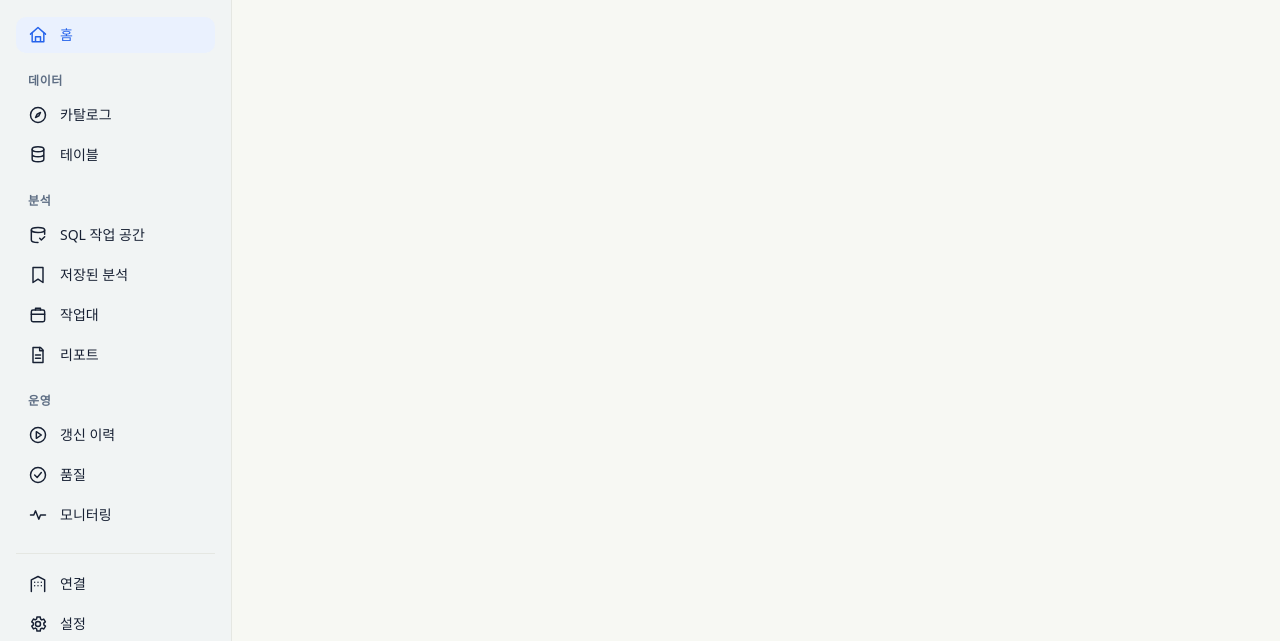
Test: command palette (#533) › opens a source in the Catalog with the keyboard alone
Press k
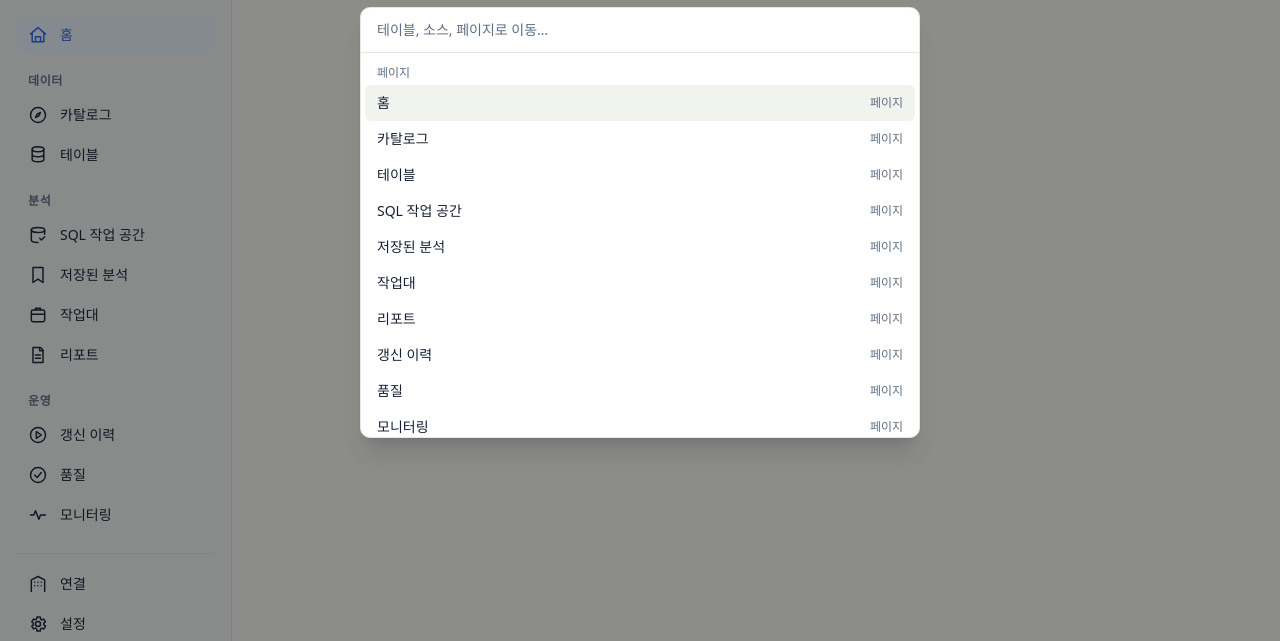
Type "아파트" into the dropdown. click: (640, 31)
box: left=361, top=8, right=919, bottom=53
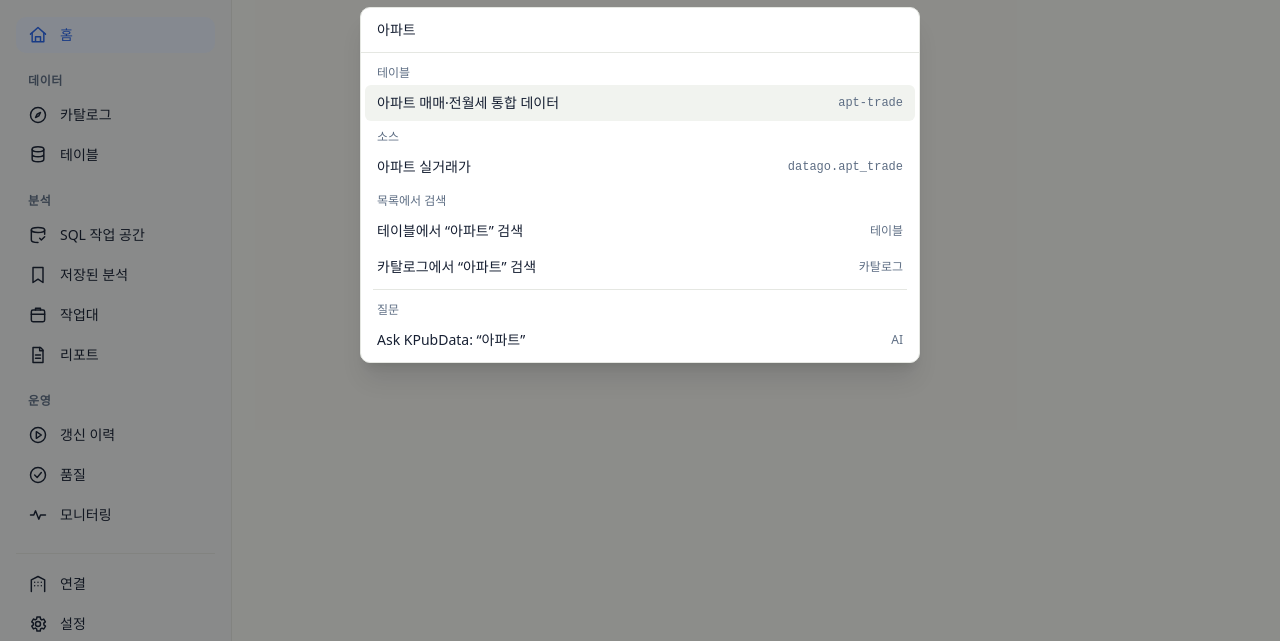
expect the option "아파트 매매·전월세 통합 데이터 apt-trade" is shown: met, box left=365, top=85, right=915, bottom=121
Press ArrowDown in the dropdown, box left=361, top=8, right=919, bottom=53
Press Enter in the dropdown, box left=361, top=8, right=919, bottom=53
(page scrolled)
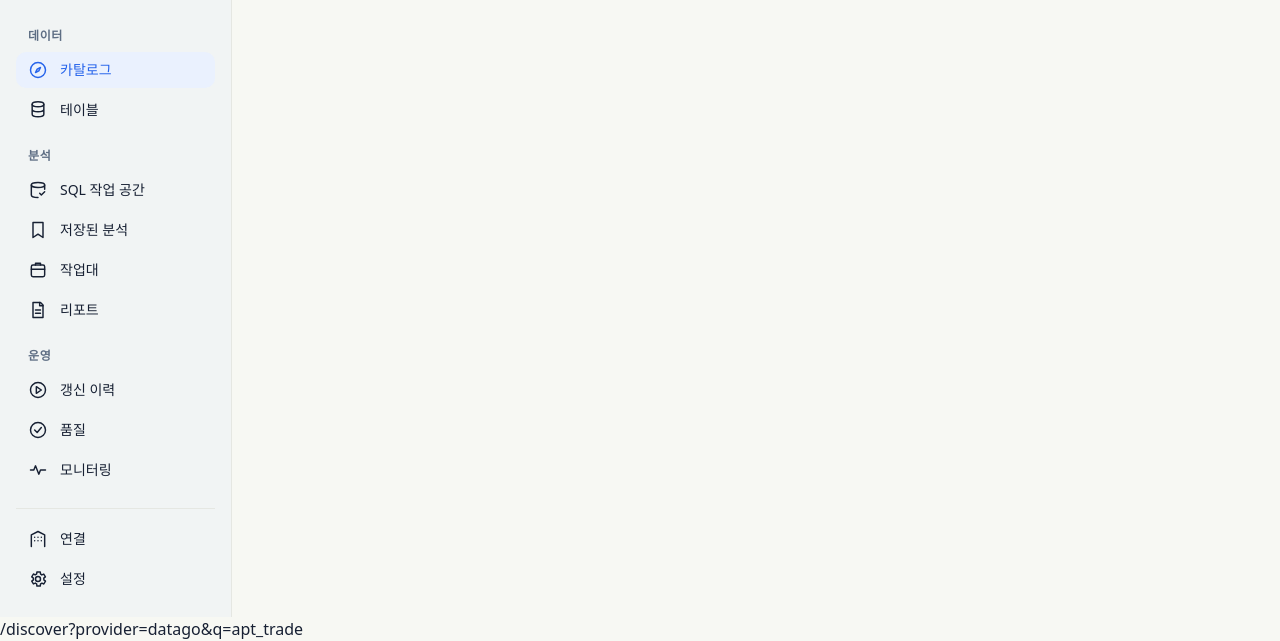
expect the text with test id "location" reads "/discover?provider=datago&q=apt_trade": met, box left=0, top=618, right=303, bottom=640
